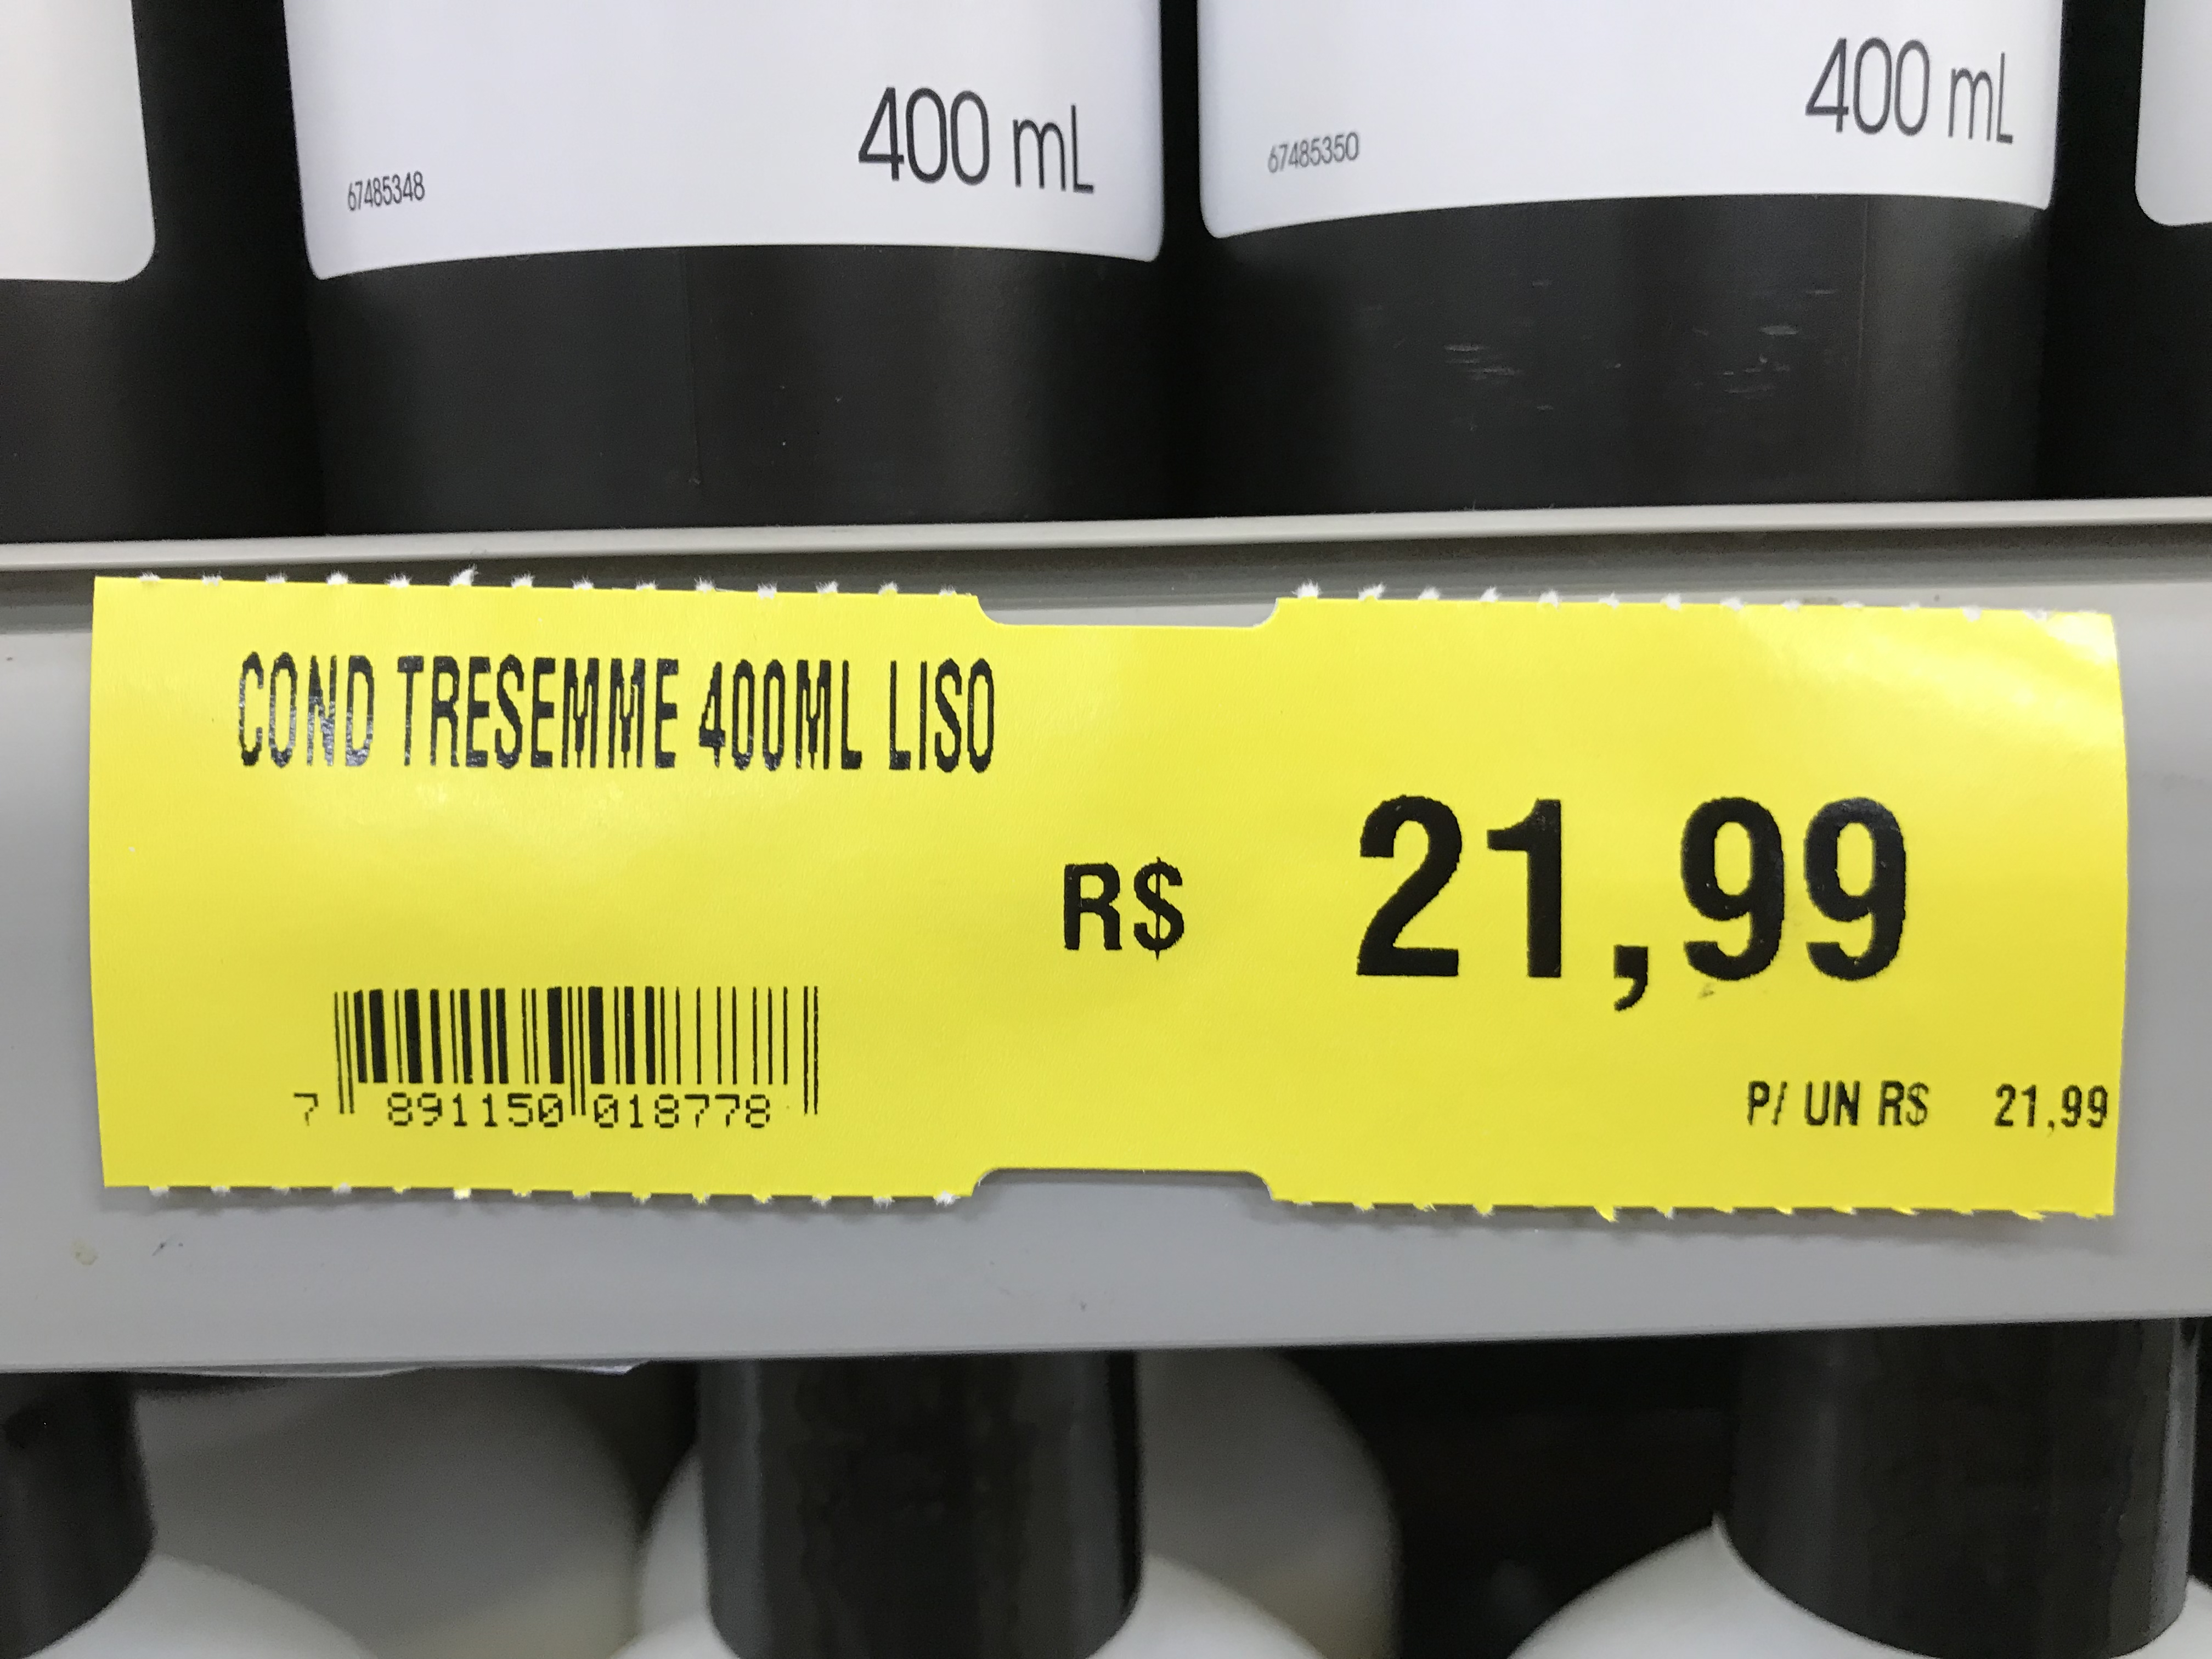estampa: (73, 545, 2151, 1239)
